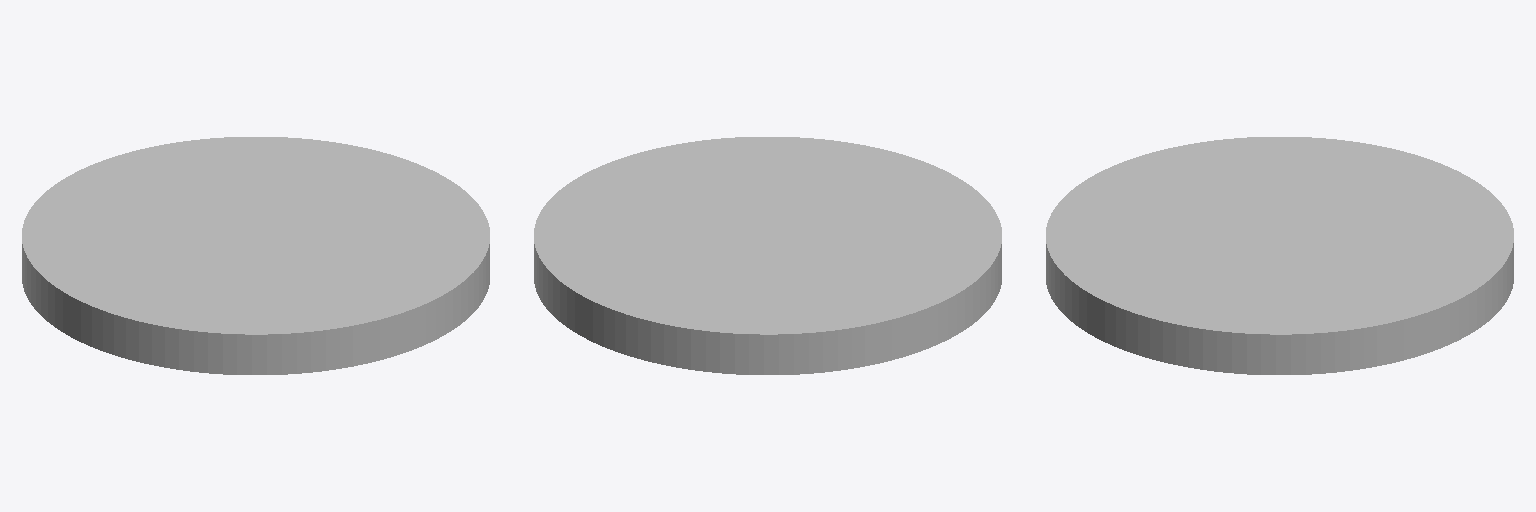
The model's file is cake.obj.
3 views of the same model, side by side, from view 1: azimuth 30°, elevation 25°; view 2: azimuth 150°, elevation 25°; view 3: azimuth 270°, elevation 25° (orthographic).
Parts seen in each view (by area): view 1: Cylinder; view 2: Cylinder; view 3: Cylinder.
Boxes of the visible parts, x1,y1,x2,y2 form: Cylinder: [22, 137, 489, 374]; Cylinder: [534, 137, 1001, 374]; Cylinder: [1046, 137, 1513, 374].
Size of the model in its own units: 0.5629 by 0.0541 by 0.5628.